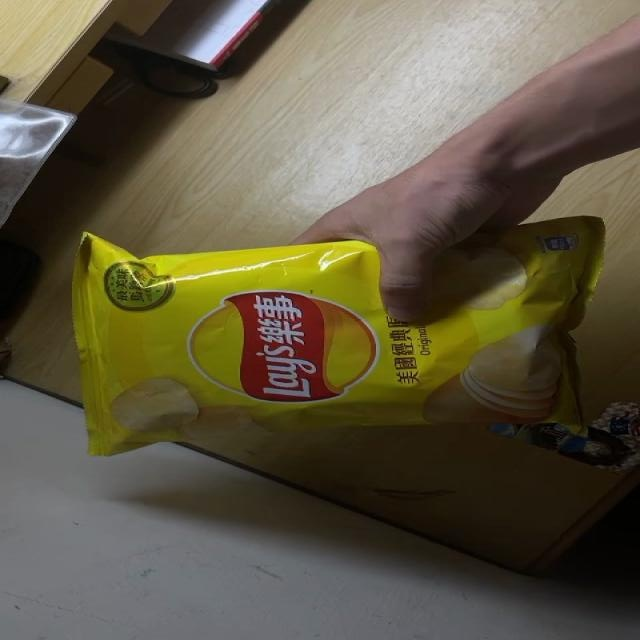Lay-s-original: (71, 214, 610, 456)
